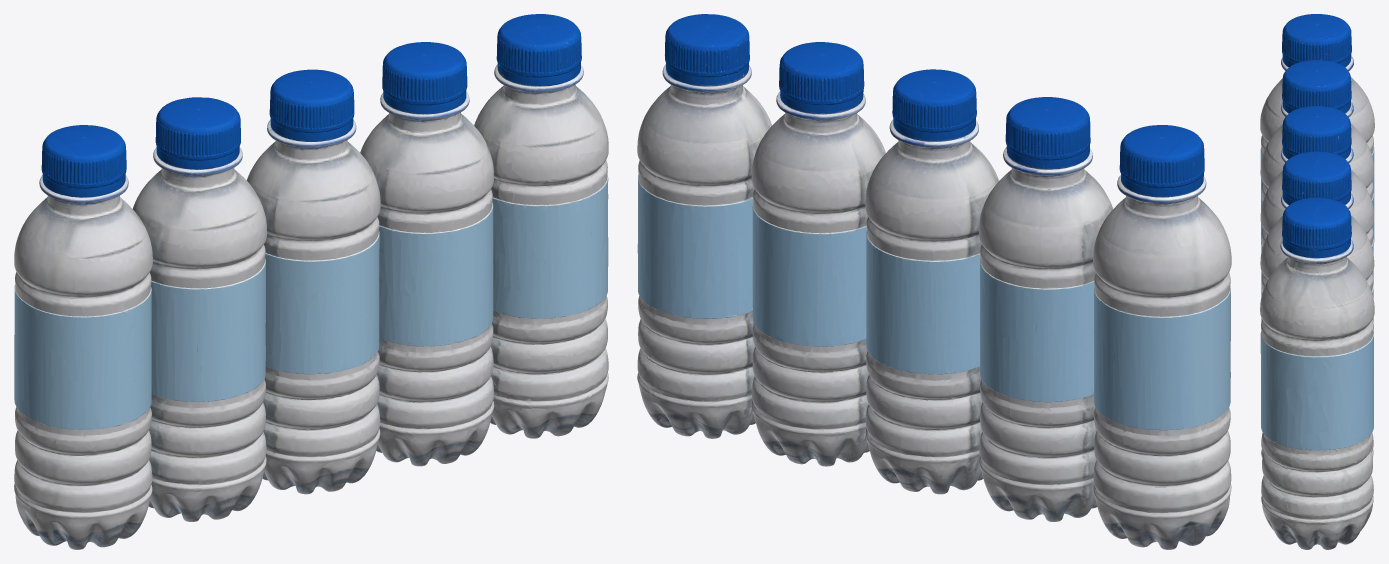
File: original-water.glb
3 views of the same model, side by side, from view 1: azimuth 30°, elevation 25°; view 2: azimuth 150°, elevation 25°; view 3: azimuth 270°, elevation 25° (orthographic). The views are drawn at different scales.
Parts seen in each view (by area): view 1: Mesh_0; view 2: Mesh_0; view 3: Mesh_0.
Boxes of the visible parts, left/top/right/bottom form: Mesh_0: left=14, top=14, right=608, bottom=549; Mesh_0: left=637, top=14, right=1231, bottom=549; Mesh_0: left=1260, top=14, right=1374, bottom=549.
Bounding box in the file's own units: 1.9 × 1.24 × 0.3964.
Materials: 1 (1 with a texture image).
